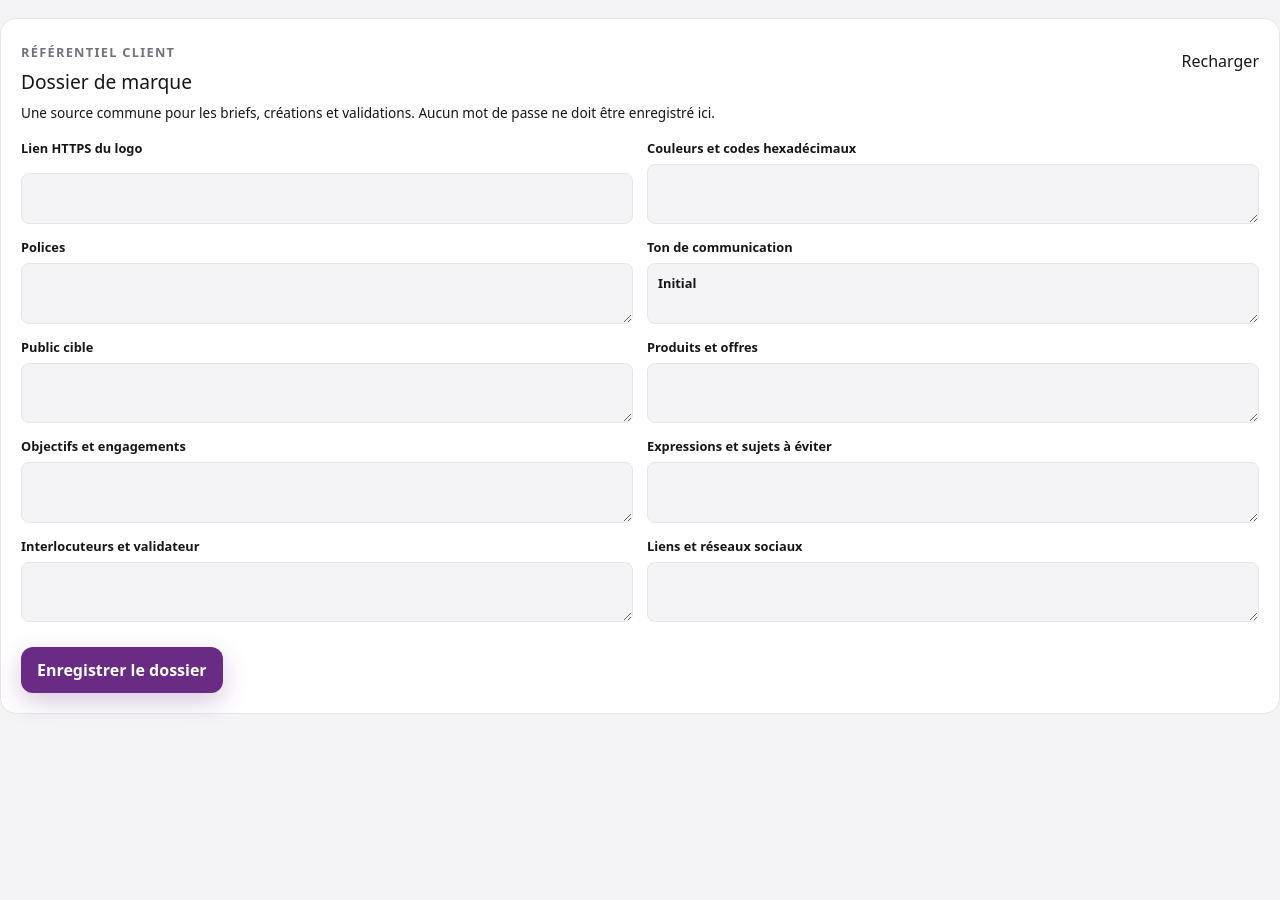
Test: agency workflow › keeps brand edits after a save error
Replace the text in the text box labelled "Ton de communication" with "Nouveau ton" at (953,294), box [647,263,1259,324]
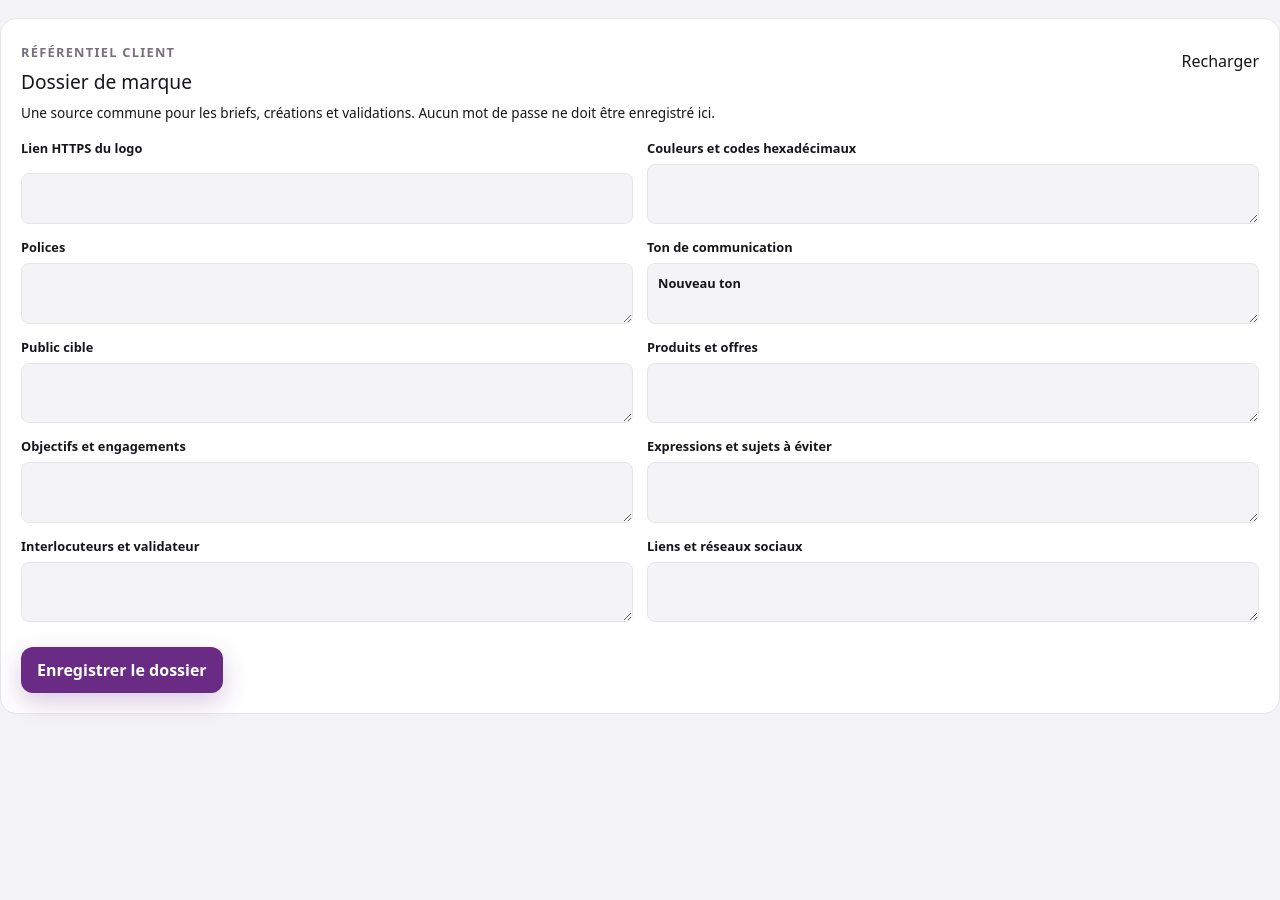
Click the button "Enregistrer le dossier" at (122,670), box [21,647,223,693]
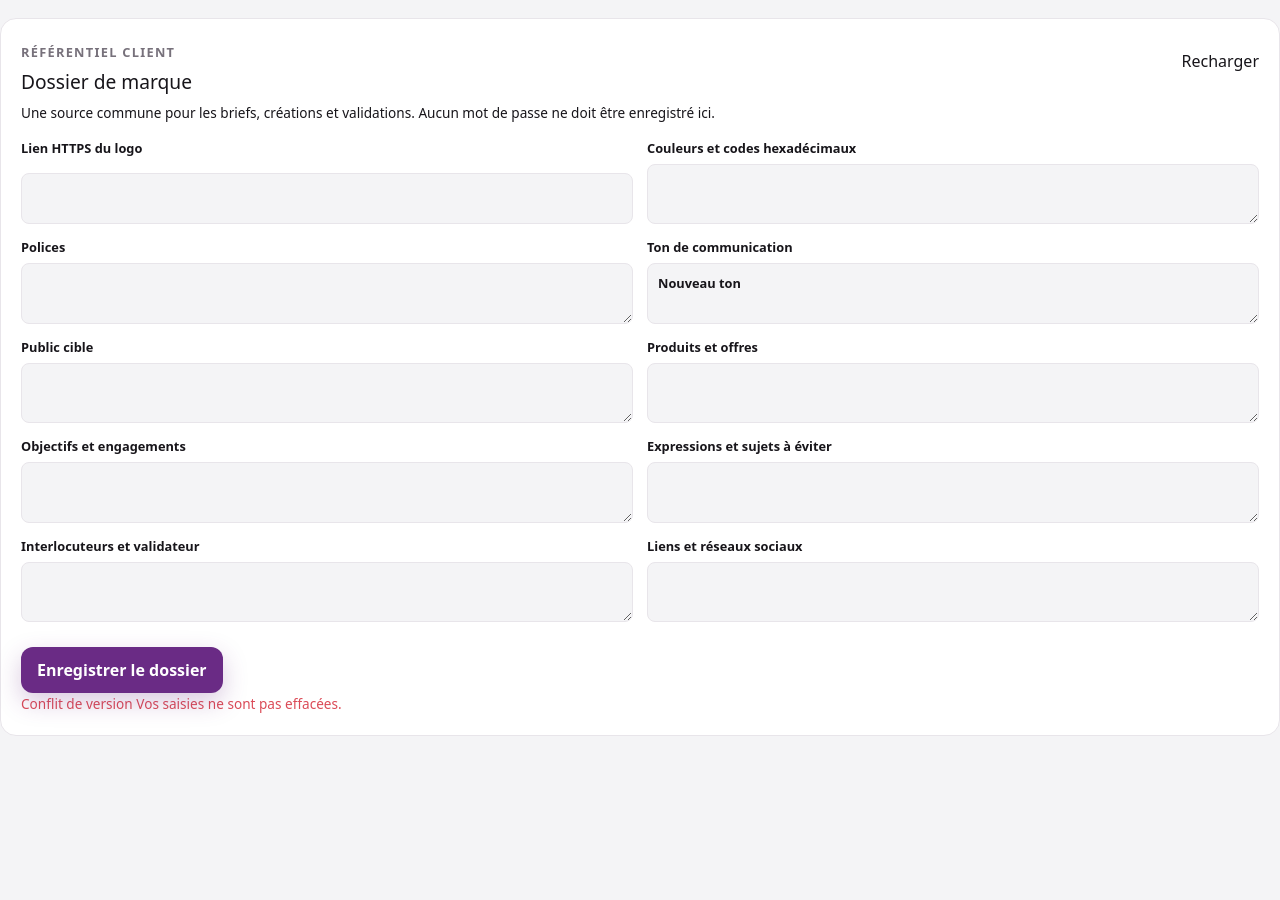
expect the message "Conflit de version Vos saisies ne sont pas effacées." is shown: met, box [21,694,342,713]
